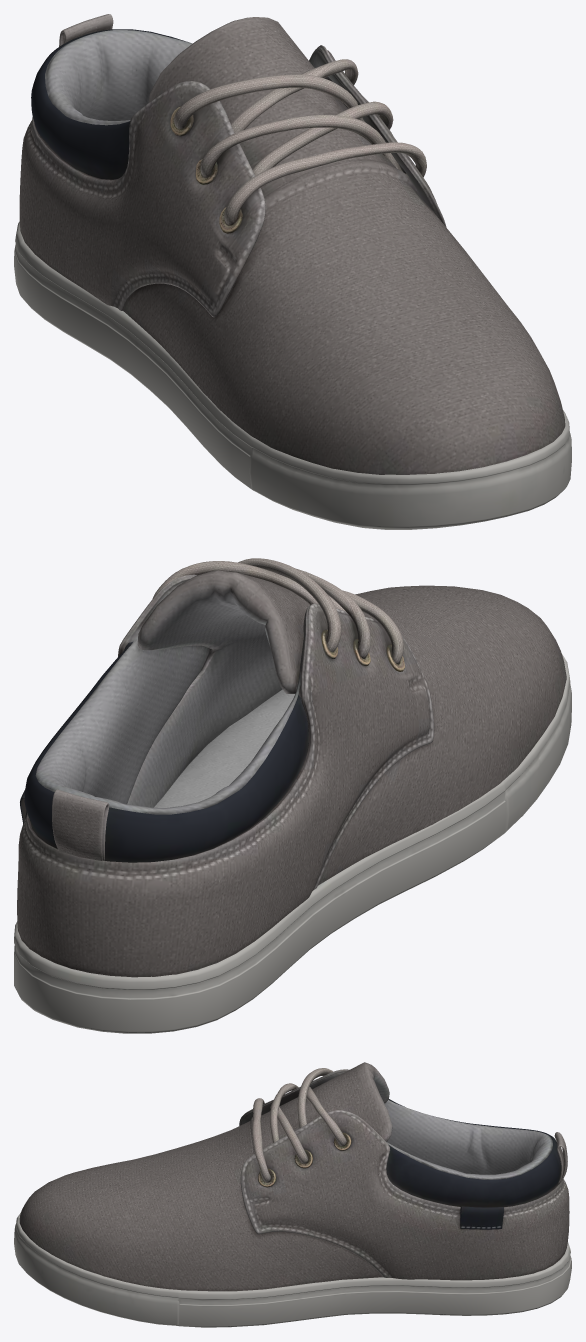
Rendered from canva-transformed.glb.
3 views of the same model, one above another, from view 1: azimuth 30°, elevation 25°; view 2: azimuth 150°, elevation 25°; view 3: azimuth 270°, elevation 25° (orthographic). The views are drawn at different scales.
Parts seen in each view (by area): view 1: Object_6; view 2: Object_6; view 3: Object_6.
Part boxes in pixels (<box>): Object_6: <box>14,14,571,529</box>; Object_6: <box>14,558,571,1033</box>; Object_6: <box>14,1062,571,1327</box>.
Bounding box in the file's own units: 129 × 150 × 348.
1 material, 1 textured.
